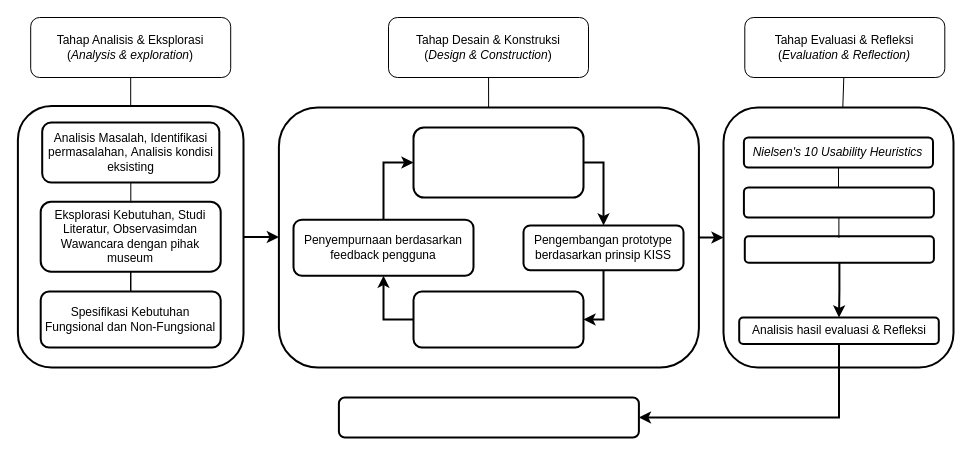
The diagram is 972 pixels wide and 456 high, and some of its shapes have lost their labels. Each missing label, with the box of its shape:
Nielsen severity ratings: (742, 186, 934, 218)
Pengujian prototype oleh pengguna dan pengumpulan umpan balik: (412, 290, 584, 348)
Perancangan cepat berdasarkan kebutuhan pengguna (User-Centered Design): (412, 126, 584, 198)
Produk akhir ( Websites & Virtual Tour): (337, 396, 639, 438)
System Usability Scale: (743, 235, 934, 263)
